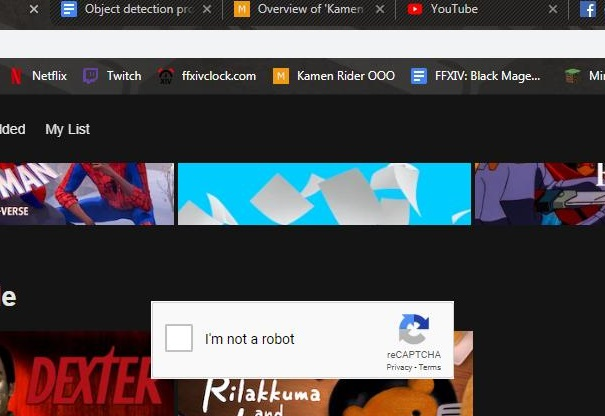captcha: (164, 324, 299, 352)
